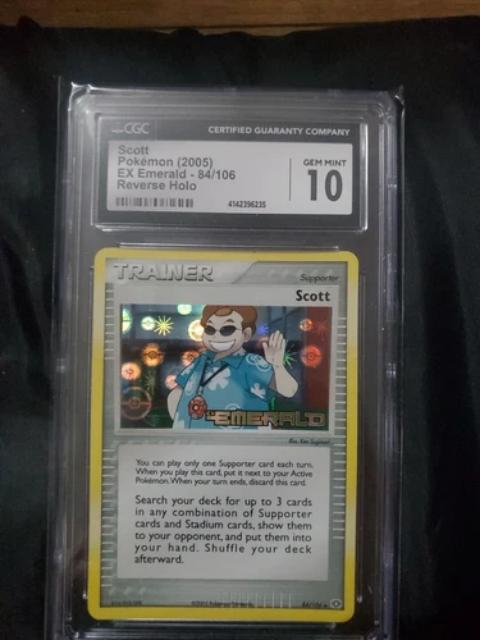Card: (85, 243, 364, 627)
Name: (290, 284, 335, 305)
